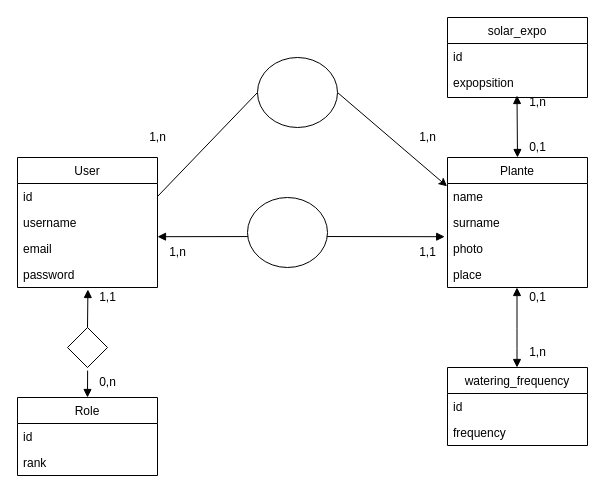
Some shapes in this 605 by 496 pixel diagram are drawn without their labels. Each missing label, with the centre of its shape:
has: the point at 87,347
register: the point at 287,232
Use Case: the point at 297,92
